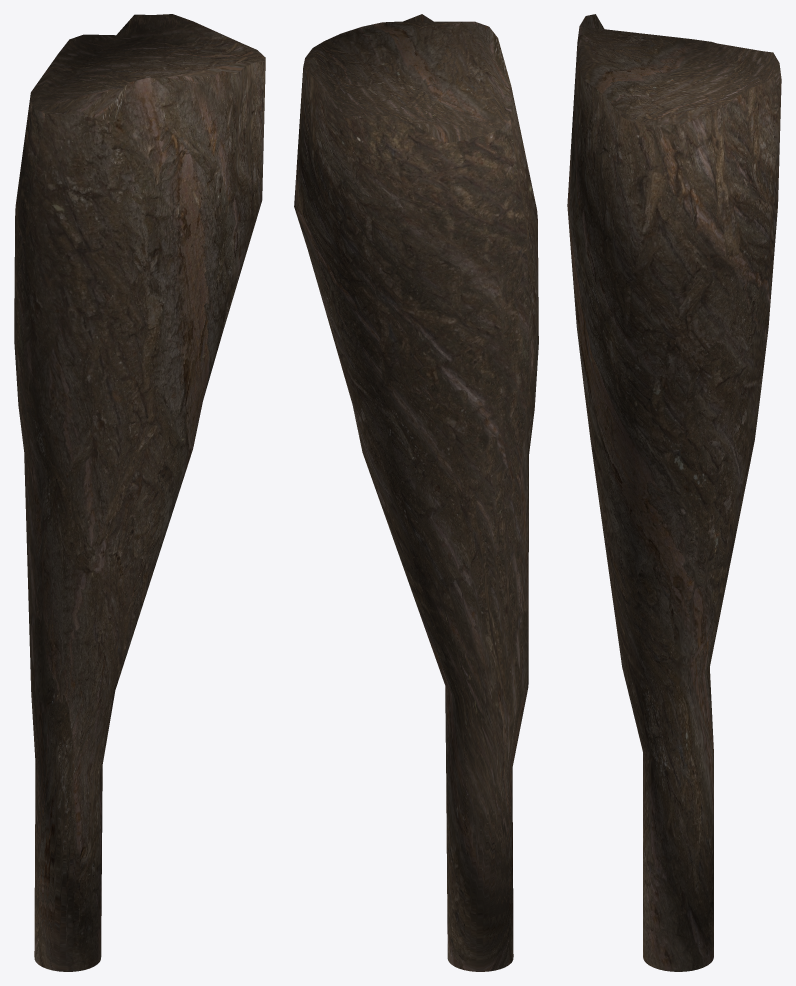
File: club.glb
The picture shows the model from 3 angles, left to right: view 1: azimuth 30°, elevation 25°; view 2: azimuth 150°, elevation 25°; view 3: azimuth 270°, elevation 25°; orthographic projection. The views are drawn at different scales.
Visible parts, largest first — view 1: Cylinder; view 2: Cylinder; view 3: Cylinder.
Boxes of the visible parts, box(x1,y1,x2,y2) form: Cylinder: box(14, 14, 265, 971); Cylinder: box(294, 14, 538, 971); Cylinder: box(567, 14, 781, 971).
Size of the model in its own units: 0.1244 by 0.4738 by 0.0959.
1 material, 1 textured.
